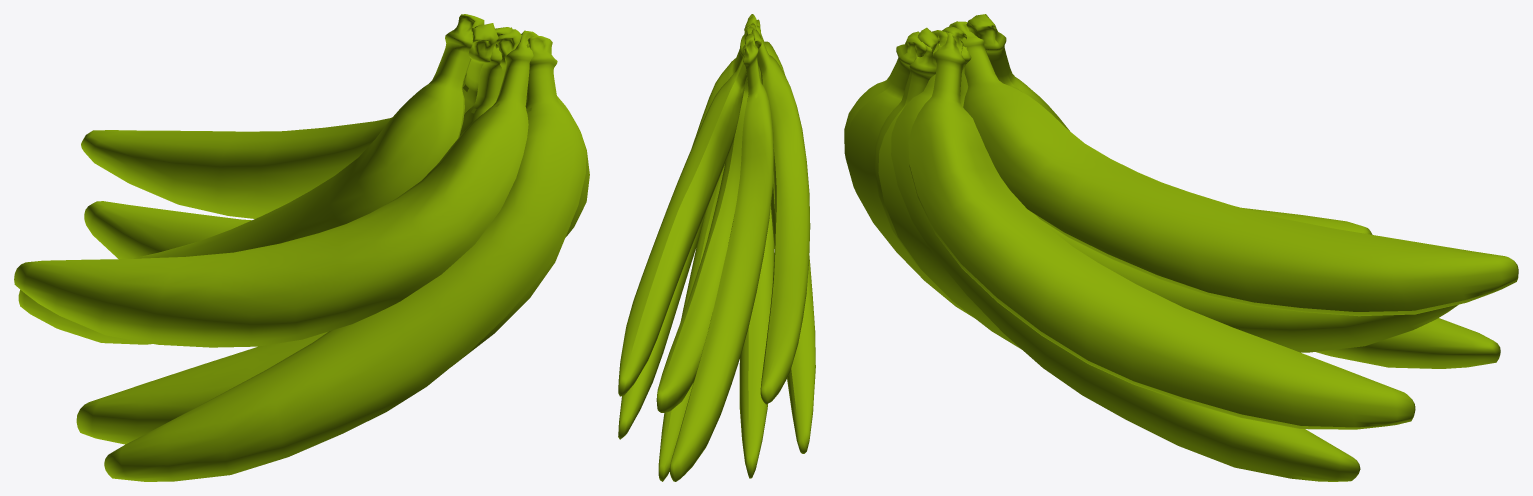
File: PlantainBunch_Model.fbx
3 views of the same model, side by side, from view 1: azimuth 30°, elevation 25°; view 2: azimuth 150°, elevation 25°; view 3: azimuth 270°, elevation 25° (orthographic). The views are drawn at different scales.
Parts seen in each view (by area): view 1: null_11, null_8, null_13, null_10, null_9, null_12; view 2: null_10, null_13, null_11, null_12, null_9, null_8, null_15, null_14; view 3: null_15, null_13, null_14, null_12, null_10, null_8, null_9, null_11.
Boxes of the visible parts, x1=… form: null_11: x1=14, y1=30, x2=538, y2=347; null_8: x1=104, y1=36, x2=586, y2=481; null_13: x1=81, y1=23, x2=498, y2=218; null_10: x1=18, y1=14, x2=484, y2=344; null_9: x1=76, y1=43, x2=570, y2=444; null_12: x1=84, y1=27, x2=511, y2=259; null_10: x1=669, y1=33, x2=773, y2=481; null_13: x1=618, y1=29, x2=761, y2=396; null_11: x1=745, y1=16, x2=810, y2=404; null_12: x1=656, y1=26, x2=755, y2=412; null_9: x1=739, y1=27, x2=774, y2=478; null_8: x1=745, y1=14, x2=815, y2=453; null_15: x1=618, y1=28, x2=747, y2=439; null_14: x1=658, y1=23, x2=756, y2=481; null_15: x1=908, y1=32, x2=1415, y2=429; null_13: x1=949, y1=21, x2=1518, y2=316; null_14: x1=891, y1=30, x2=1360, y2=481; null_12: x1=942, y1=27, x2=1458, y2=352; null_10: x1=966, y1=14, x2=1500, y2=368; null_8: x1=844, y1=31, x2=973, y2=317; null_9: x1=874, y1=44, x2=1021, y2=349; null_11: x1=917, y1=27, x2=1372, y2=234.
Bounding box in the file's own units: 77.81 × 120 × 149.
